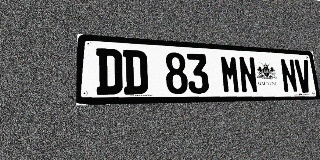3: (187, 53, 209, 94)
8: (165, 52, 188, 94)
D: (96, 48, 123, 95), (123, 50, 148, 95)
M: (220, 55, 241, 93)
N: (238, 56, 258, 93), (280, 58, 298, 93)
V: (294, 59, 312, 93)
